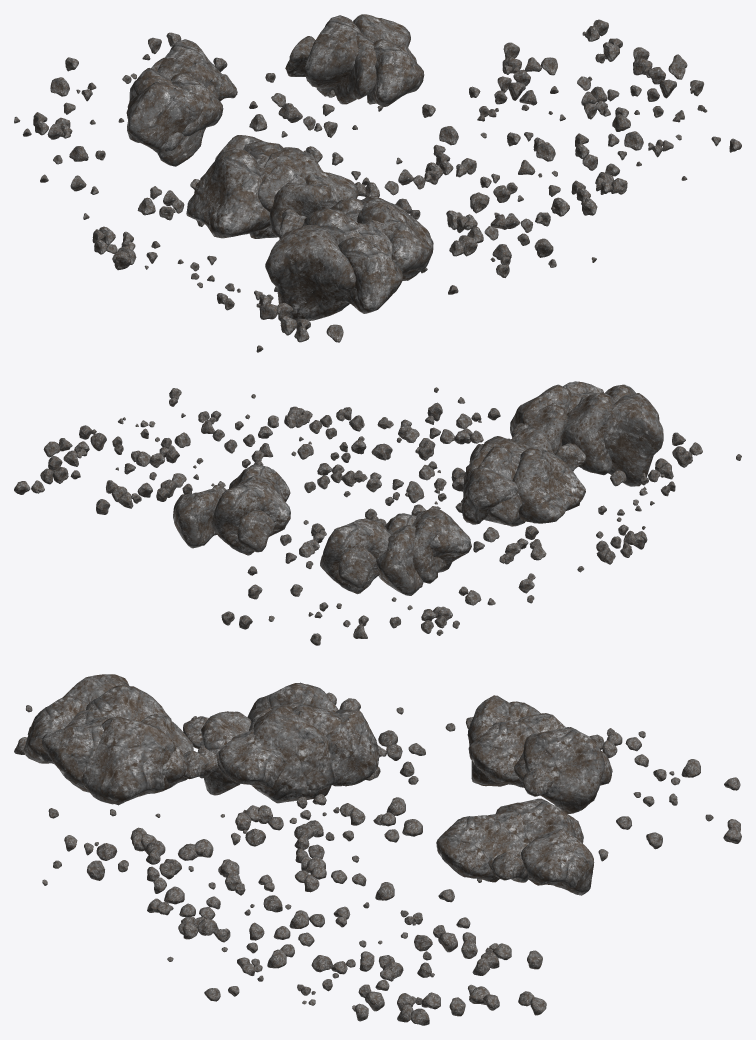
File: Rock_TX.fbx
3 renders of one model, top to bottom at view 1: azimuth 30°, elevation 25°; view 2: azimuth 150°, elevation 25°; view 3: azimuth 270°, elevation 25°, orthographic. The views are drawn at different scales.
Visible parts, largest first — view 1: rock Remeshed.005 Duplicator|rock Remeshed.005 - copy|Dupli| (×19); view 2: rock Remeshed.005 Duplicator|rock Remeshed.005 - copy|Dupli| (×20); view 3: rock Remeshed.005 Duplicator|rock Remeshed.005 - copy|Dupli| (×22).
Part boxes in pixels (box(x1,y1,x2,y2)): rock Remeshed.005 Duplicator|rock Remeshed.005 - copy|Dupli| (×19): box(126, 14, 433, 321); rock Remeshed.005 Duplicator|rock Remeshed.005 - copy|Dupli| (×20): box(173, 384, 663, 595); rock Remeshed.005 Duplicator|rock Remeshed.005 - copy|Dupli| (×22): box(23, 674, 604, 895).
Bounding box in the file's own units: 695 × 106 × 664.
1 material, 1 textured.
